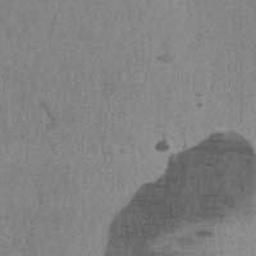Oil spot: (105, 131, 256, 256), (41, 102, 56, 131), (156, 52, 174, 63), (154, 140, 169, 151)
